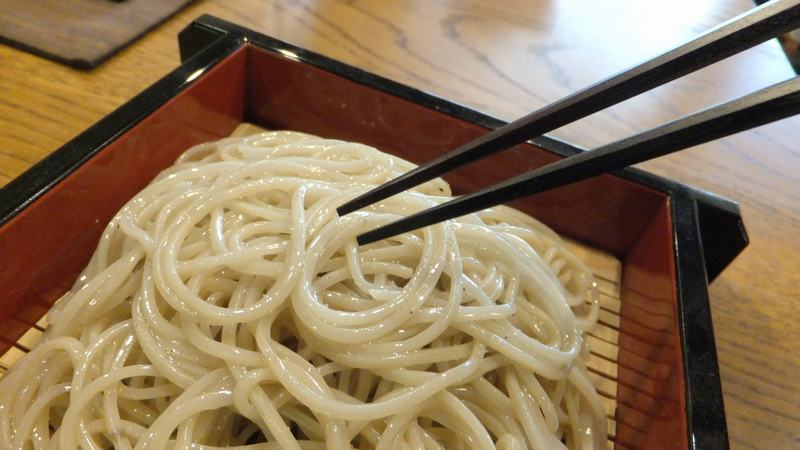Soba: (9, 125, 630, 450)
